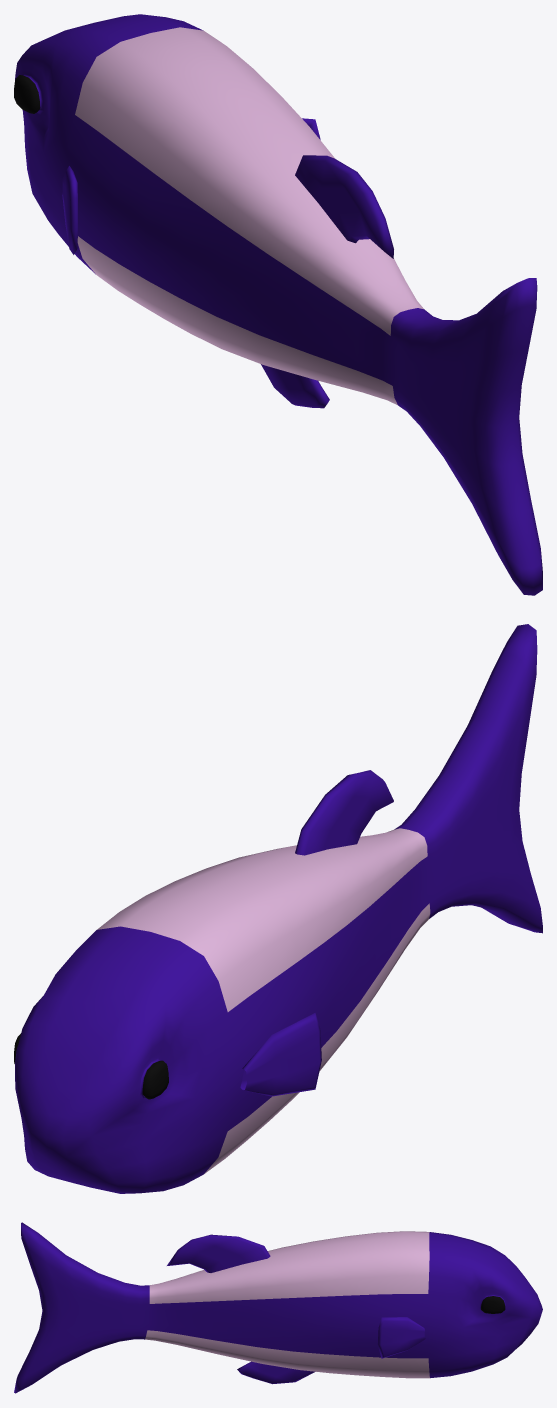
The model's file is Fish_02.fbx.
3 views of the same model, one above another, from view 1: azimuth 30°, elevation 25°; view 2: azimuth 150°, elevation 25°; view 3: azimuth 270°, elevation 25° (orthographic). The views are drawn at different scales.
Visible parts, largest first — view 1: Fish_01; view 2: Fish_01; view 3: Fish_01.
Boxes of the visible parts, x1,y1,x2,y2 form: Fish_01: [14, 14, 542, 595]; Fish_01: [14, 624, 542, 1193]; Fish_01: [14, 1222, 542, 1393].
Bounding box in the file's own units: 158 × 189 × 536.
